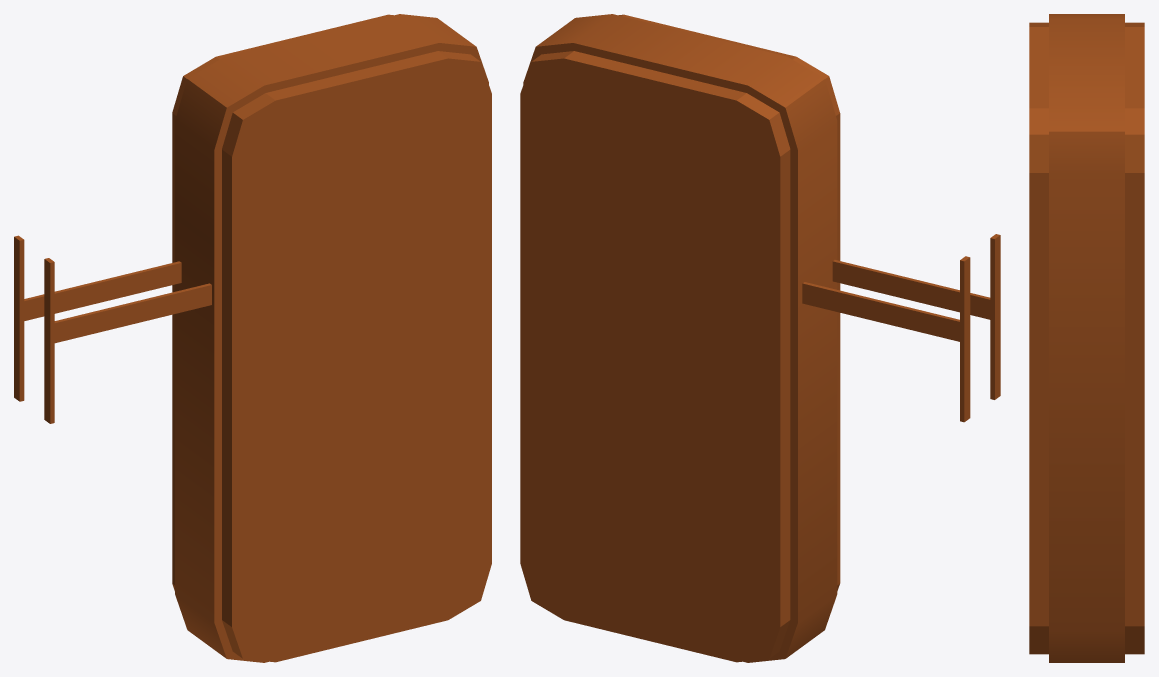
Rendered from SM_sign_japan_small_04.fbx.
3 views of the same model, side by side, from view 1: azimuth 30°, elevation 25°; view 2: azimuth 150°, elevation 25°; view 3: azimuth 270°, elevation 25° (orthographic). The views are drawn at different scales.
Visible parts, largest first — view 1: Object012; view 2: Object012; view 3: Object012.
Part boxes in pixels (x1,y1,x2,y2): Object012: [14, 14, 491, 662]; Object012: [520, 14, 1000, 662]; Object012: [1029, 14, 1144, 662].
Size of the model in its own units: 43.42 by 10.28 by 54.64.
